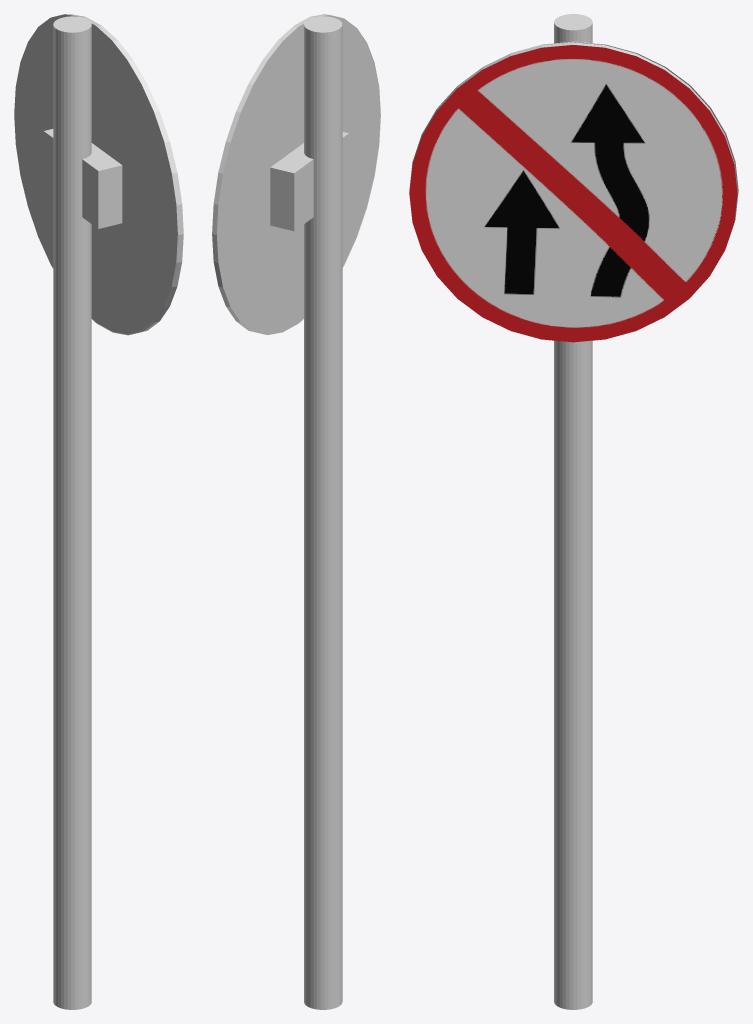
Rendered from RambuLaranganMendahului.fbx.
3 views of the same model, side by side, from view 1: azimuth 30°, elevation 25°; view 2: azimuth 150°, elevation 25°; view 3: azimuth 270°, elevation 25° (orthographic).
Visible parts, largest first — view 1: Cylinder, Cylinder.001, Cube; view 2: Cylinder, Cylinder.001, Cube; view 3: Cylinder.001, Cylinder.
Boxes of the visible parts, bbox=[...] form: Cylinder: bbox=[53, 16, 91, 1009]; Cylinder.001: bbox=[14, 14, 183, 335]; Cube: bbox=[43, 129, 122, 228]; Cylinder: bbox=[304, 16, 342, 1009]; Cylinder.001: bbox=[212, 14, 380, 335]; Cube: bbox=[270, 132, 348, 231]; Cylinder.001: bbox=[409, 41, 738, 342]; Cylinder: bbox=[554, 14, 592, 1009].
Size of the model in its own units: 35.85 by 727 by 222.
